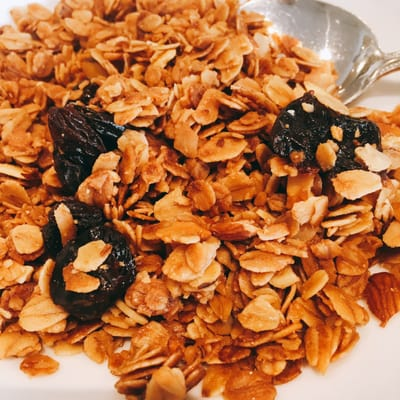burger: (240, 0, 400, 115)
sushi: (0, 0, 400, 399)
